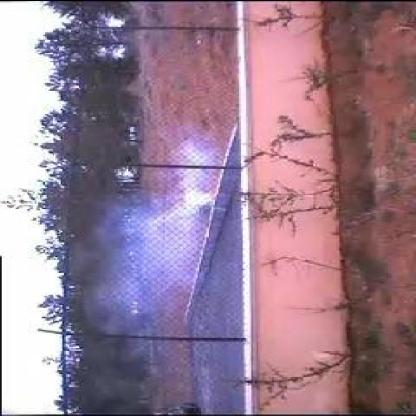-: (81, 138, 222, 326)
